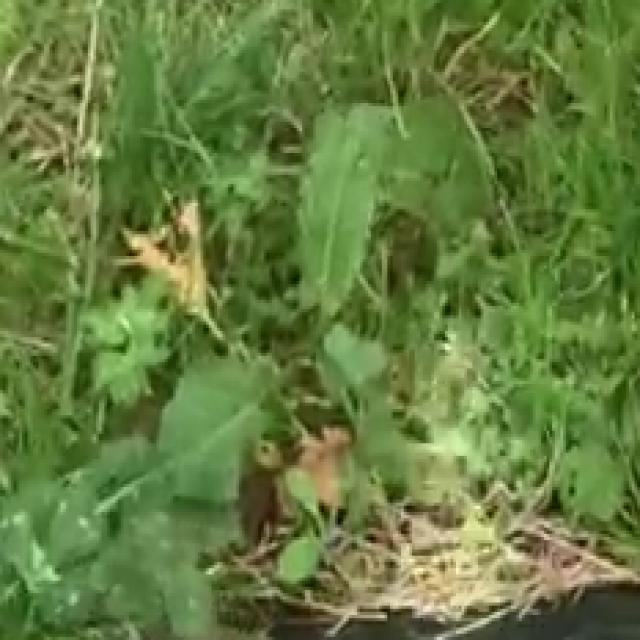organic waste: (17, 353, 357, 640), (258, 53, 503, 397)
